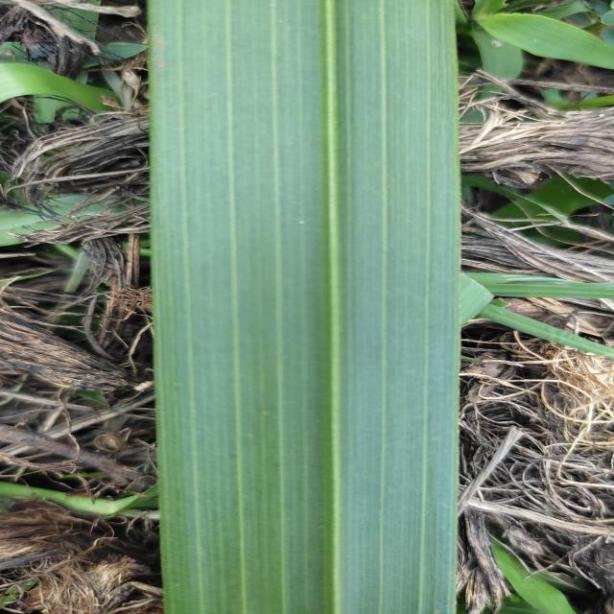Healthy: (147, 0, 462, 614)
